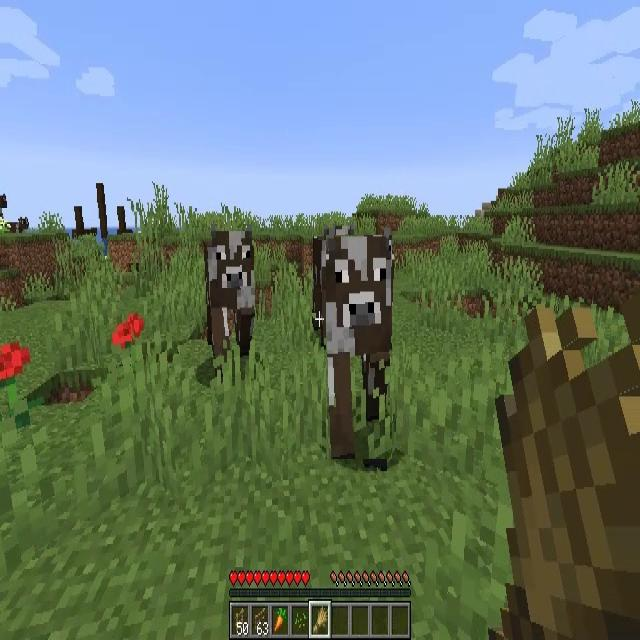cow: (327, 235, 392, 459), (206, 230, 255, 370)
